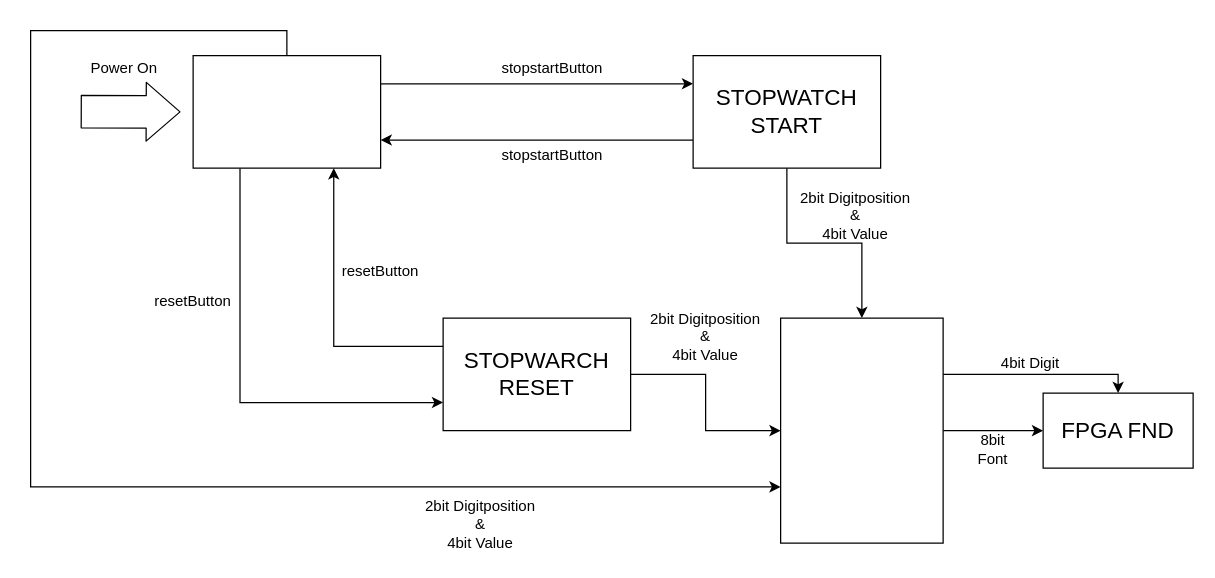
Image size: 1215x578. Some labels were removed from this diagram. The shapes that lost their labels are listed below. From the top down, each one's box as (x1, y1, x2, y2) in pixels, then its label:
(192, 54, 381, 168): STOPWATCH STOP
(779, 317, 943, 543): BCD TO FND
